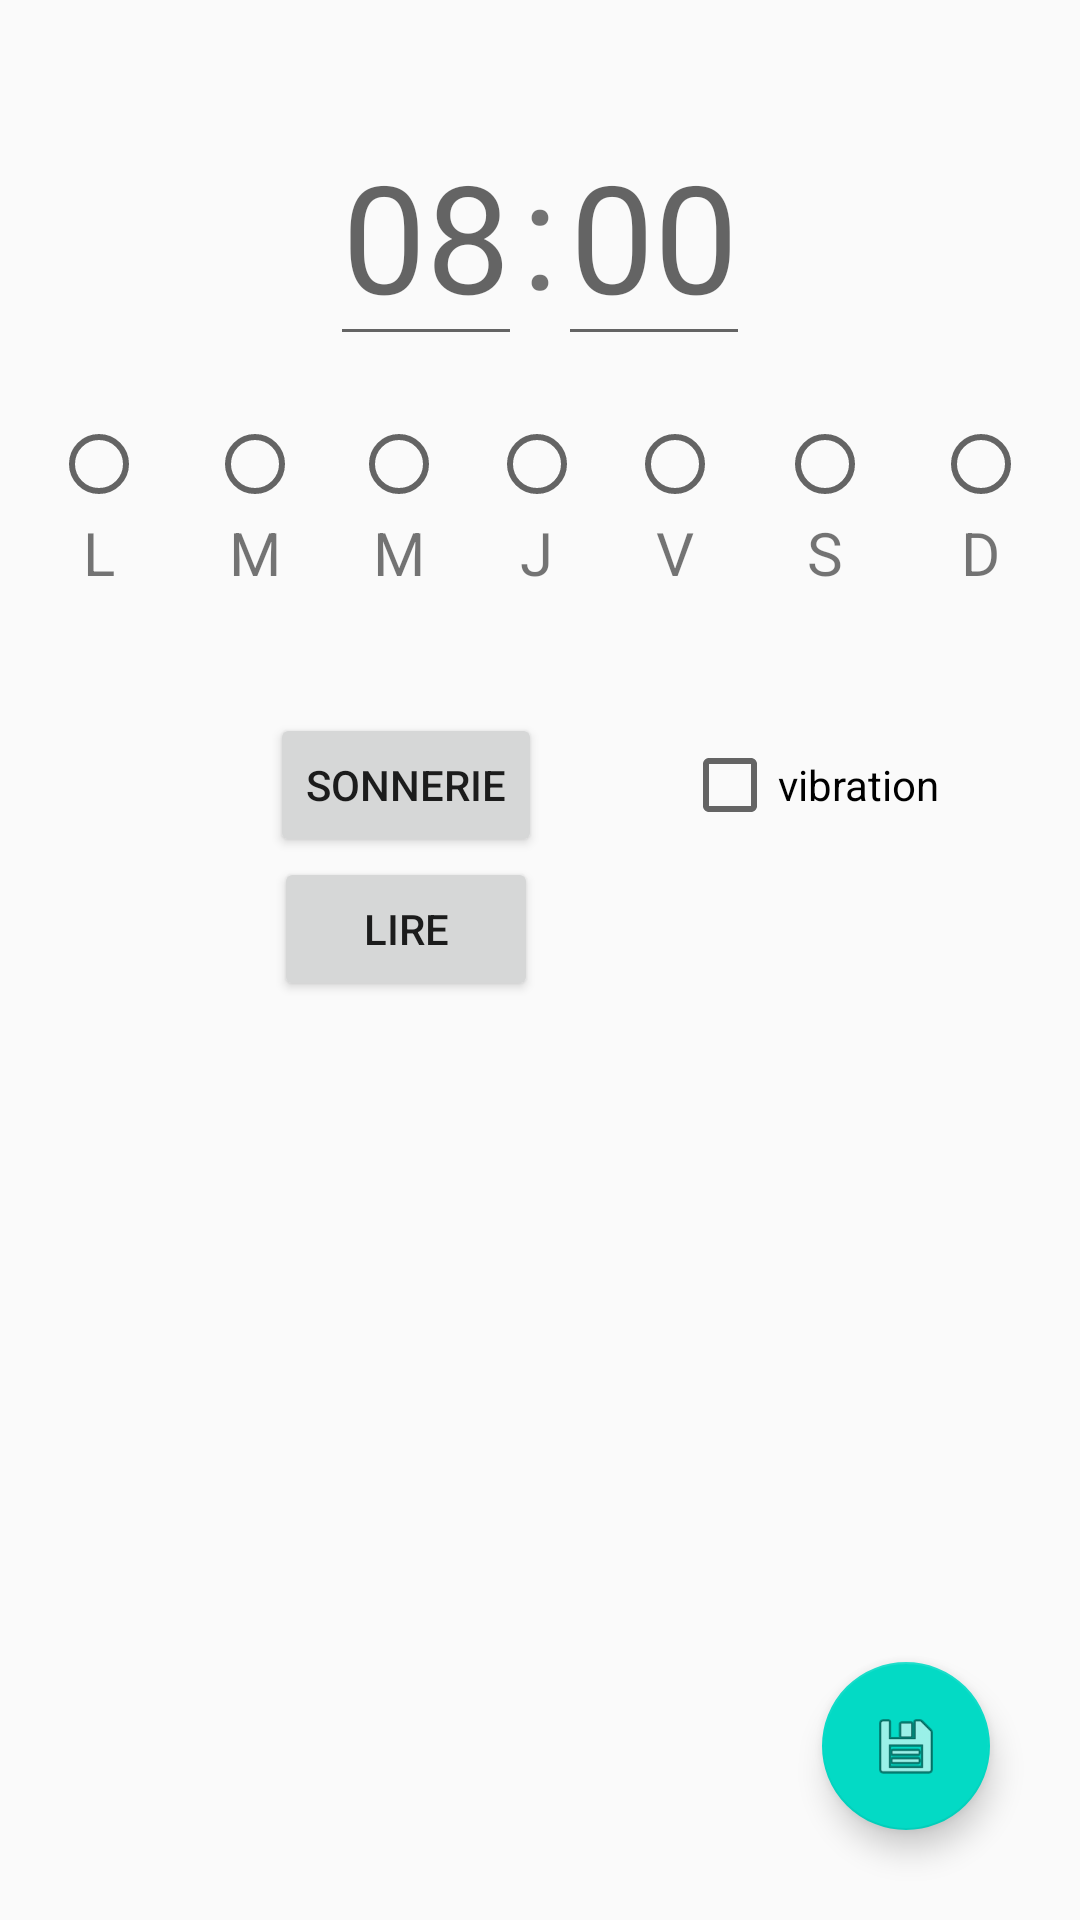

Icons on this 1080×1920 Android screen, each with its box as (x1, y1, x2, y2):
save: (822, 1662, 990, 1830)
